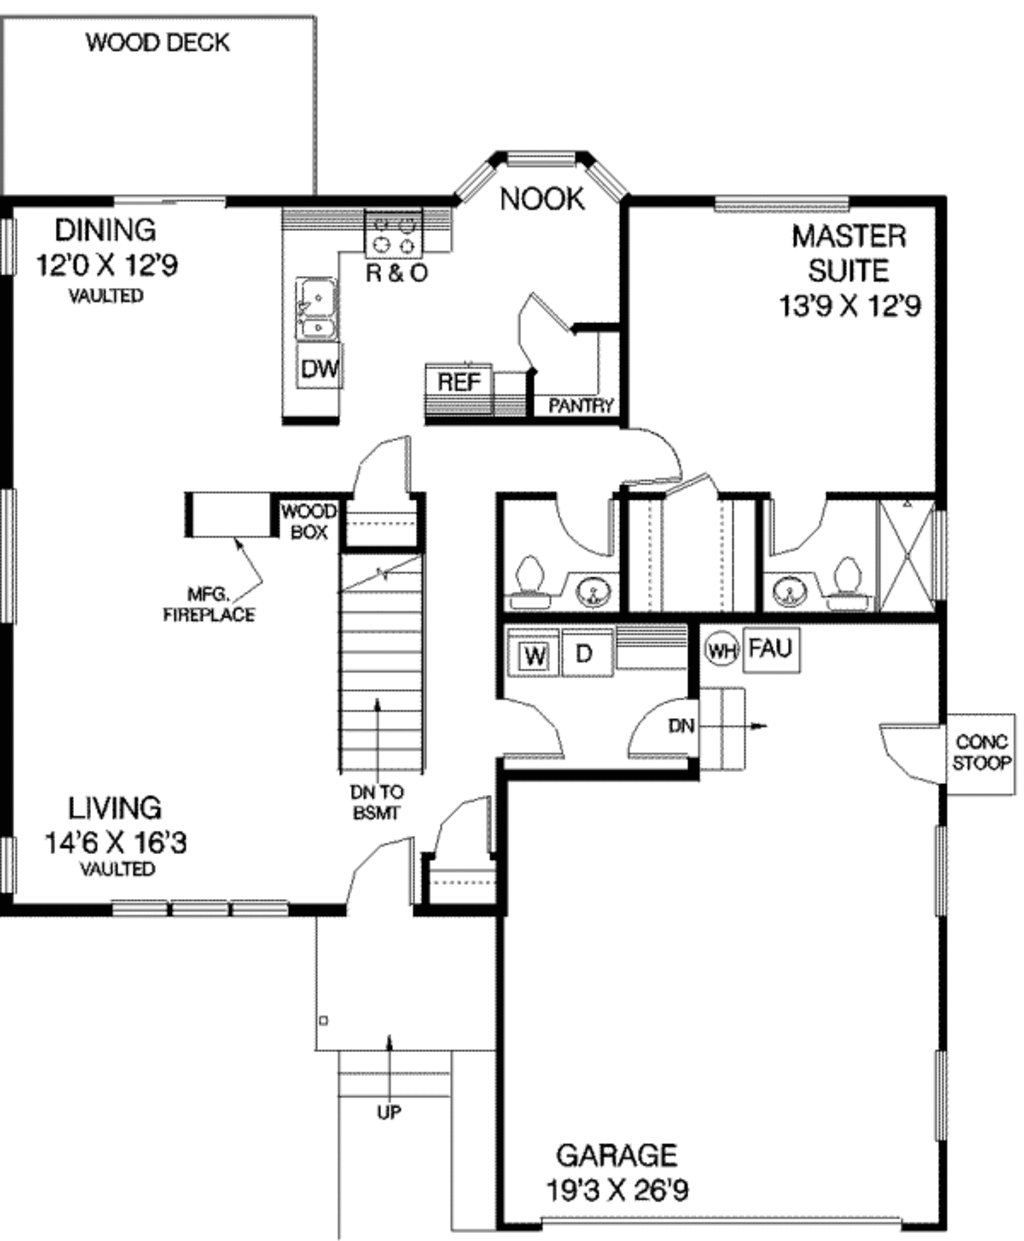door: (330, 837, 429, 920), (326, 422, 423, 497), (428, 797, 507, 877), (507, 288, 580, 375), (547, 482, 623, 561), (880, 704, 949, 789), (487, 696, 567, 767), (624, 695, 701, 763), (608, 420, 685, 487), (767, 491, 826, 560)
large_sink: (508, 549, 556, 618), (824, 555, 876, 610)
small_sink: (555, 569, 623, 620), (758, 575, 826, 617)
stairs: (343, 504, 437, 782), (329, 1045, 466, 1132), (698, 687, 783, 778)
twin_sink: (285, 265, 356, 345)
window: (445, 147, 626, 201), (97, 884, 298, 923), (707, 192, 853, 222), (111, 182, 235, 214), (924, 818, 955, 928), (1, 487, 26, 620), (928, 1052, 952, 1142), (1, 831, 22, 900), (1, 210, 20, 283)
